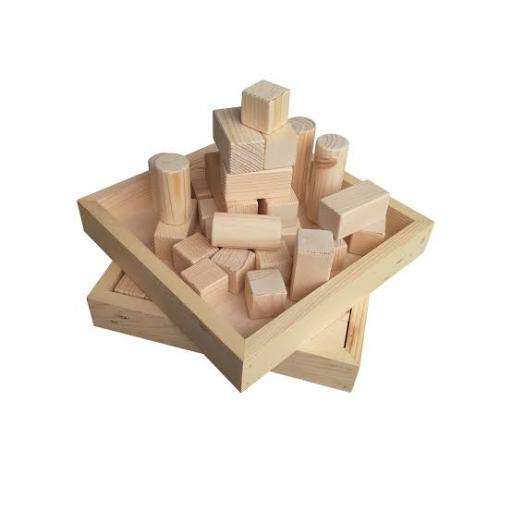mainan blok: (76, 77, 436, 396)
